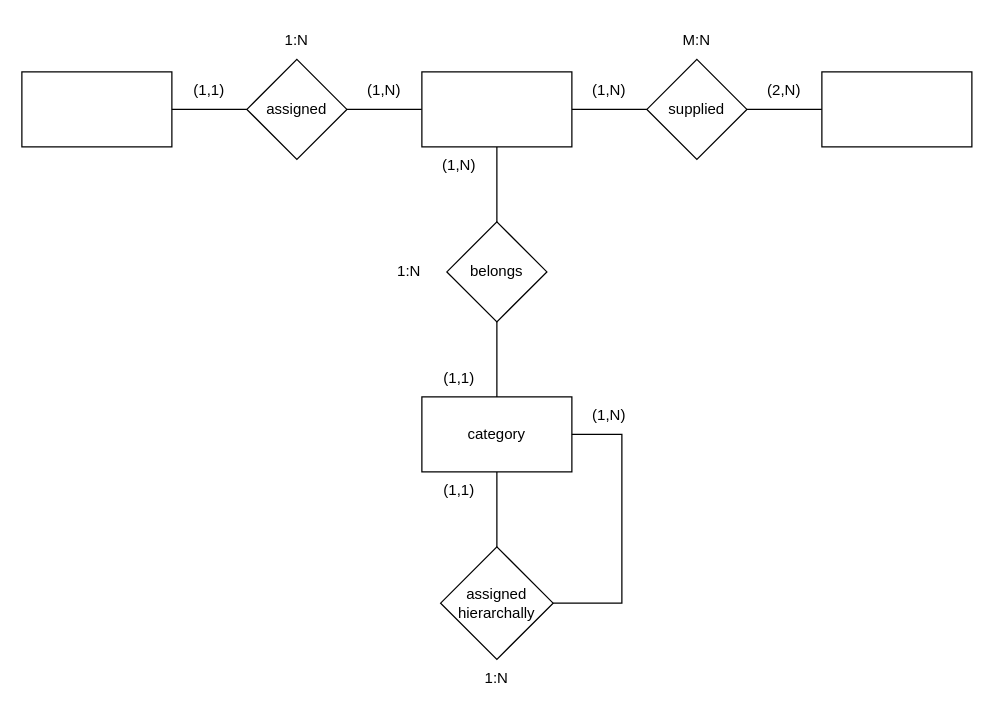
Some shapes in this 994 by 718 pixel diagram are drawn without their labels. Here are the shapes that lost their labels. From the top down, the centre of each, then its label:
[96,109]: unit
[496,109]: item
[896,109]: vendor
